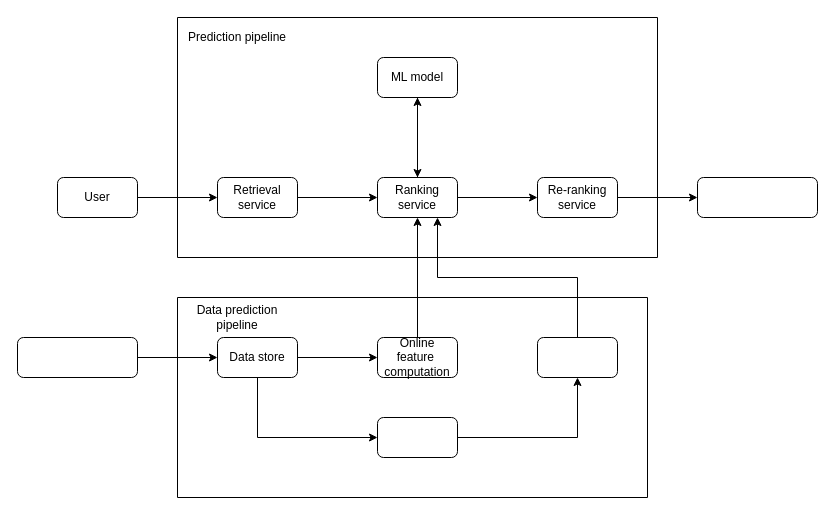
The diagram is 835 pixels wide and 515 high, and some of its shapes have lost their labels. Each missing label, with the box of its shape:
Batch feature computation: (376, 416, 458, 458)
Feature store: (536, 336, 618, 378)
Personalized feed for the user: (696, 176, 818, 218)
Stream of interaction data: (16, 336, 138, 378)
